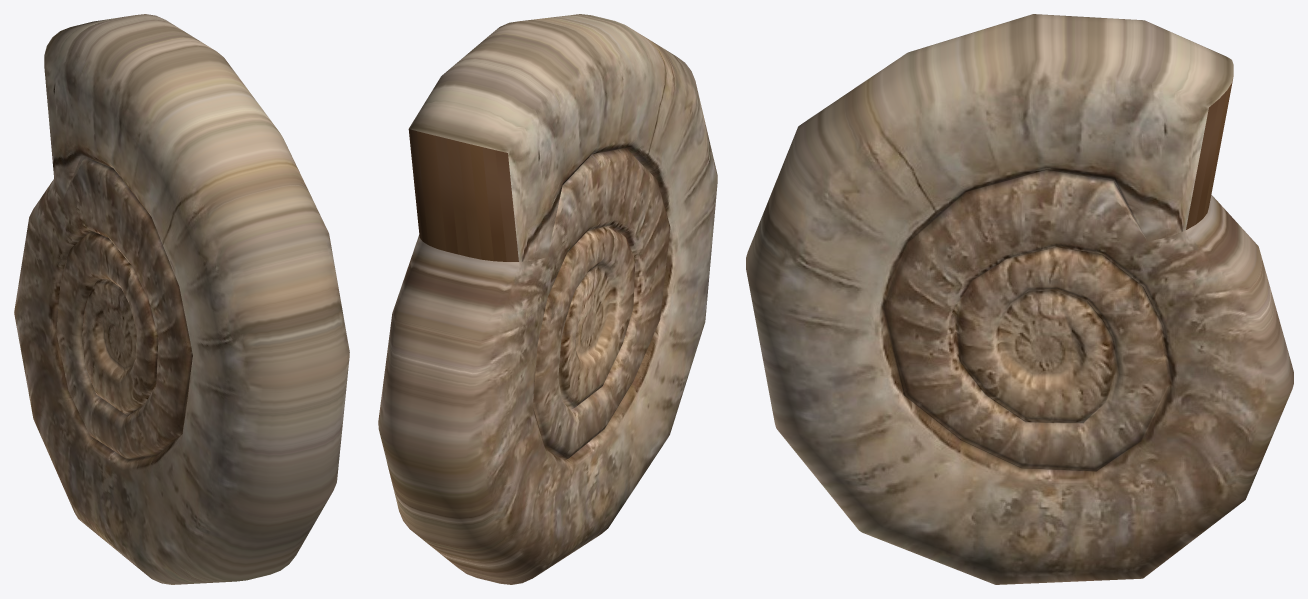
File: Strajevskya hoffmani.glb
3 renders of one model, left to right at view 1: azimuth 30°, elevation 25°; view 2: azimuth 150°, elevation 25°; view 3: azimuth 270°, elevation 25°, orthographic. The views are drawn at different scales.
Visible parts, largest first — view 1: Plane.001; view 2: Plane.001; view 3: Plane.001.
Part boxes in pixels (x1=…): Plane.001: x1=14, y1=14, x2=349, y2=584; Plane.001: x1=378, y1=14, x2=717, y2=584; Plane.001: x1=746, y1=14, x2=1293, y2=584.
Bounding box in the file's own units: 0.3904 × 1.62 × 1.47.
1 material, 1 textured.
